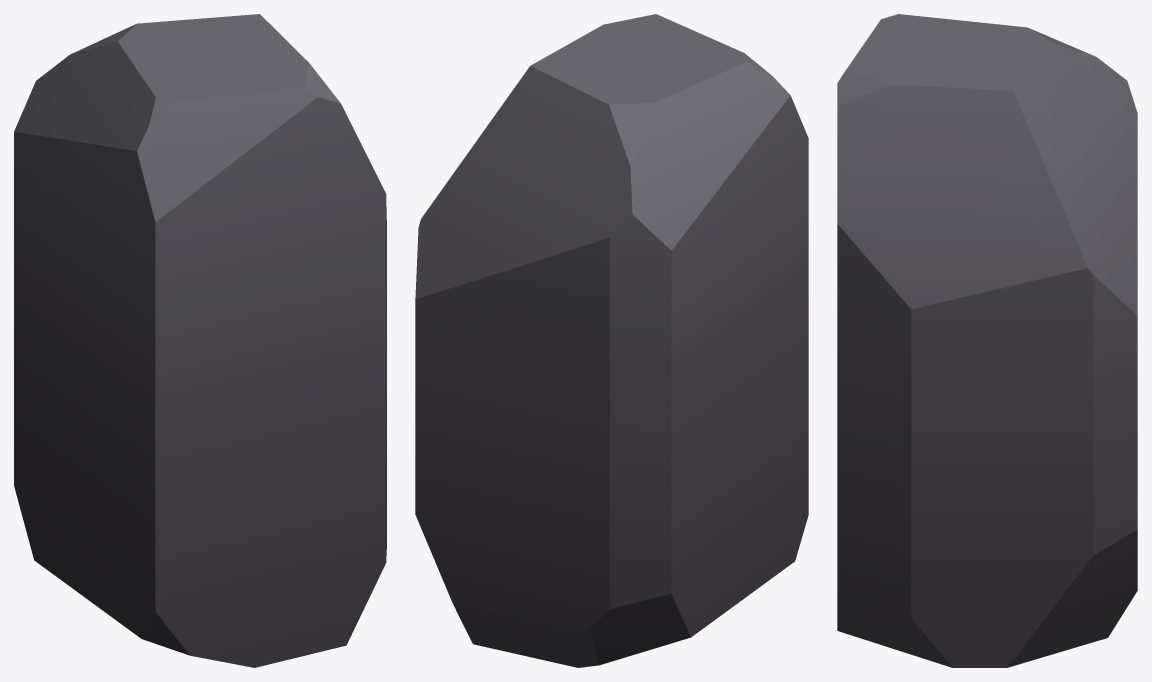
File: Rock_05.fbx
3 renders of one model, left to right at view 1: azimuth 30°, elevation 25°; view 2: azimuth 150°, elevation 25°; view 3: azimuth 270°, elevation 25°, orthographic. The views are drawn at different scales.
Visible parts, largest first — view 1: Rock_05; view 2: Rock_05; view 3: Rock_05.
Boxes of the visible parts, bbox=[...] form: Rock_05: bbox=[14, 14, 386, 667]; Rock_05: bbox=[415, 14, 808, 667]; Rock_05: bbox=[837, 14, 1137, 667].
Bounding box in the file's own units: 151 × 301 × 151.
